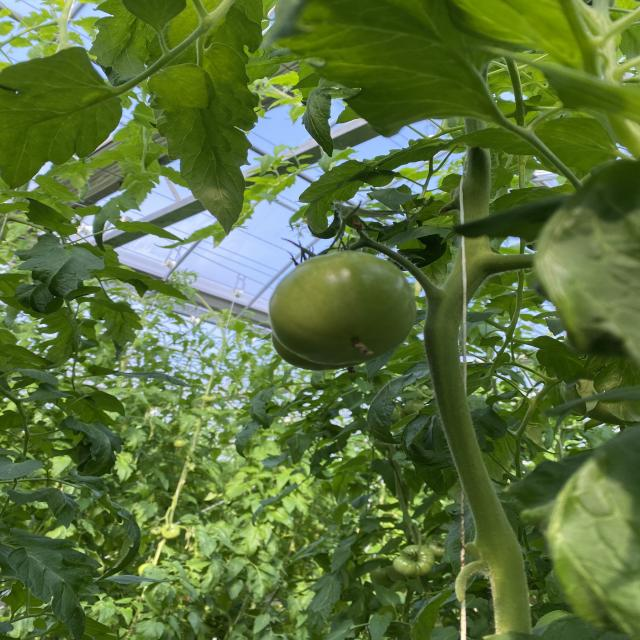n-unriped: (267, 251, 415, 366)
